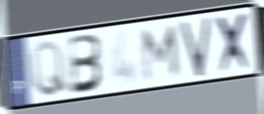4: (110, 27, 139, 88)
B: (68, 32, 106, 97)
M: (141, 23, 182, 85)
Q: (29, 38, 71, 99)
V: (178, 14, 214, 80)
X: (214, 9, 255, 76)
